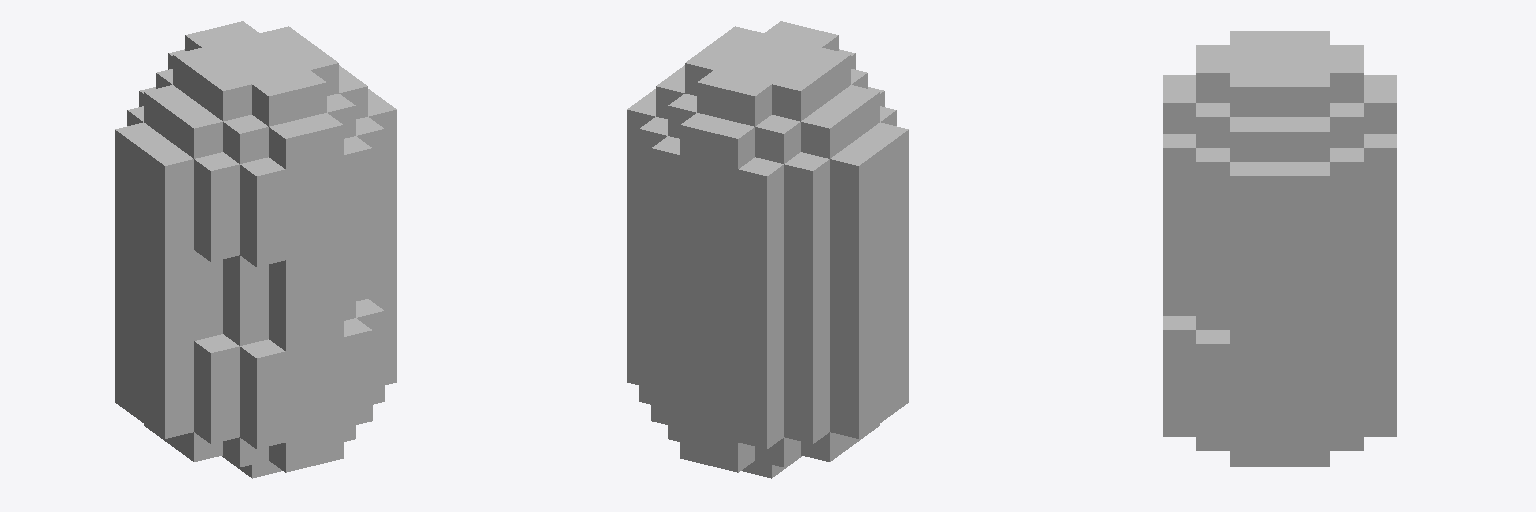
File: Head.obj
3 views of the same model, side by side, from view 1: azimuth 30°, elevation 25°; view 2: azimuth 150°, elevation 25°; view 3: azimuth 270°, elevation 25° (orthographic).
Visible parts, largest first — view 1: object 1; view 2: object 1; view 3: object 1.
Boxes of the visible parts, box(x1,y1,x2,y2) form: object 1: box(115, 21, 396, 478); object 1: box(627, 21, 908, 478); object 1: box(1163, 31, 1396, 466).
Bounding box in the file's own units: 0.8 × 1.3 × 0.7.